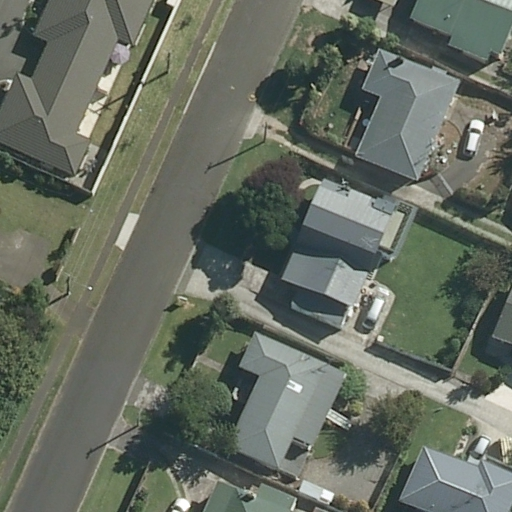DT: (155, 44, 183, 78), (55, 266, 81, 299)
